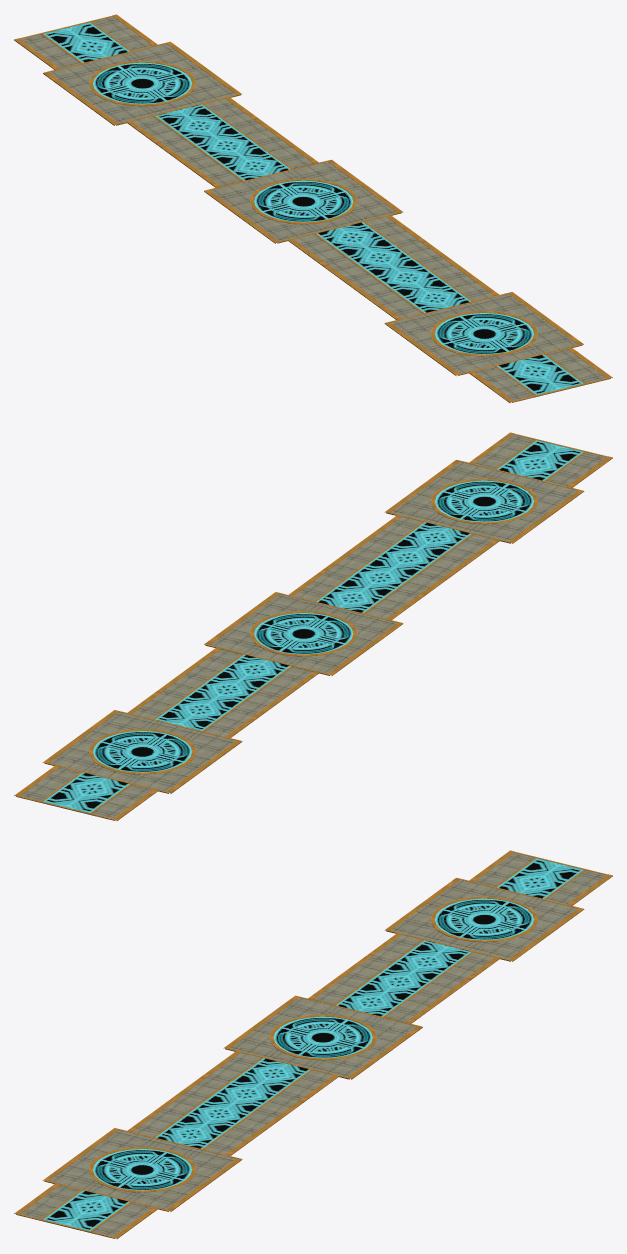
The model's file is Battle03_Plane_05.FBX.
3 views of the same model, one above another, from view 1: azimuth 30°, elevation 25°; view 2: azimuth 150°, elevation 25°; view 3: azimuth 330°, elevation 25° (orthographic).
Parts seen in each view (by area): view 1: Battle03_Plane_05_01, Battle03_Plane_05_03, Battle03_Plane_05_02; view 2: Battle03_Plane_05_01, Battle03_Plane_05_03, Battle03_Plane_05_02; view 3: Battle03_Plane_05_01, Battle03_Plane_05_03, Battle03_Plane_05_02.
Part boxes in pixels (left/top/right/bottom): Battle03_Plane_05_01: left=20, top=17, right=610, bottom=402; Battle03_Plane_05_03: left=43, top=22, right=583, bottom=394; Battle03_Plane_05_02: left=14, top=14, right=612, bottom=402; Battle03_Plane_05_01: left=16, top=435, right=606, bottom=820; Battle03_Plane_05_03: left=43, top=440, right=583, bottom=812; Battle03_Plane_05_02: left=14, top=432, right=612, bottom=820; Battle03_Plane_05_01: left=16, top=853, right=606, bottom=1238; Battle03_Plane_05_03: left=43, top=858, right=583, bottom=1230; Battle03_Plane_05_02: left=14, top=850, right=612, bottom=1238.
Size of the model in its own units: 23.99 by 0.1879 by 161.
